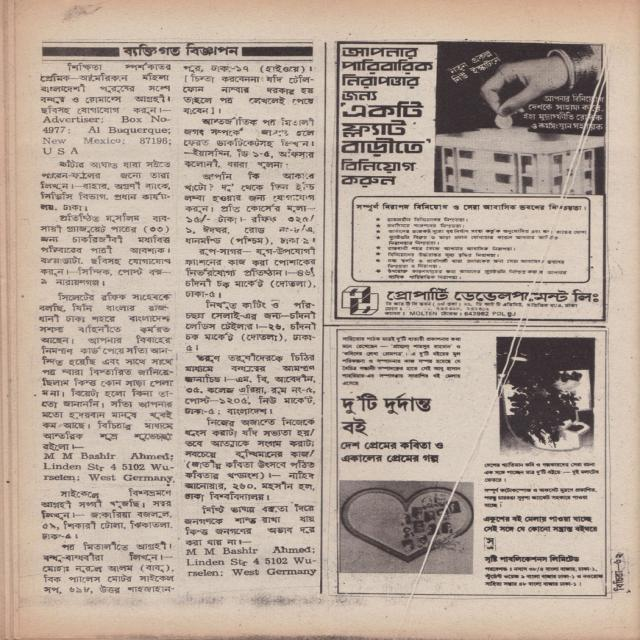advertisement: (337, 42, 605, 320), (334, 327, 608, 597)
page number: (614, 553, 623, 565)
paragraph: (36, 290, 176, 452), (31, 60, 176, 158), (183, 415, 318, 502), (37, 212, 173, 287), (181, 171, 318, 245), (181, 350, 316, 416), (40, 540, 178, 596), (179, 116, 317, 171), (181, 61, 318, 116), (37, 158, 174, 213), (36, 487, 173, 542), (181, 298, 318, 352), (183, 246, 318, 300), (181, 502, 317, 547), (182, 545, 318, 579), (40, 449, 175, 483)
text: (612, 570, 625, 592)
title: (121, 40, 240, 59)
